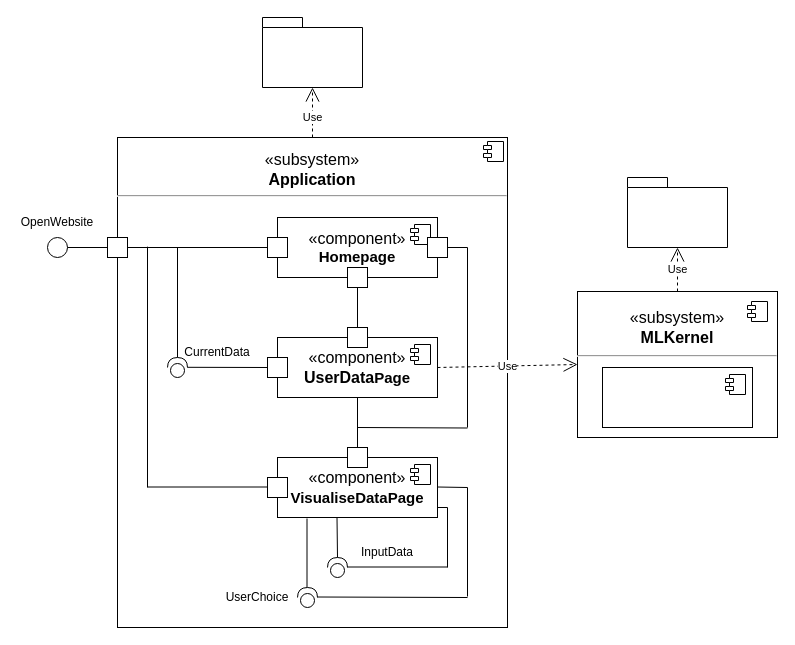
Image size: 795x645. Some labels were removed from this diagram. Each missing label, with the centre of its shape:
«component» Model: the point at 677,397
«framework» streamlit: the point at 312,52
«library» pandas: the point at 677,212
